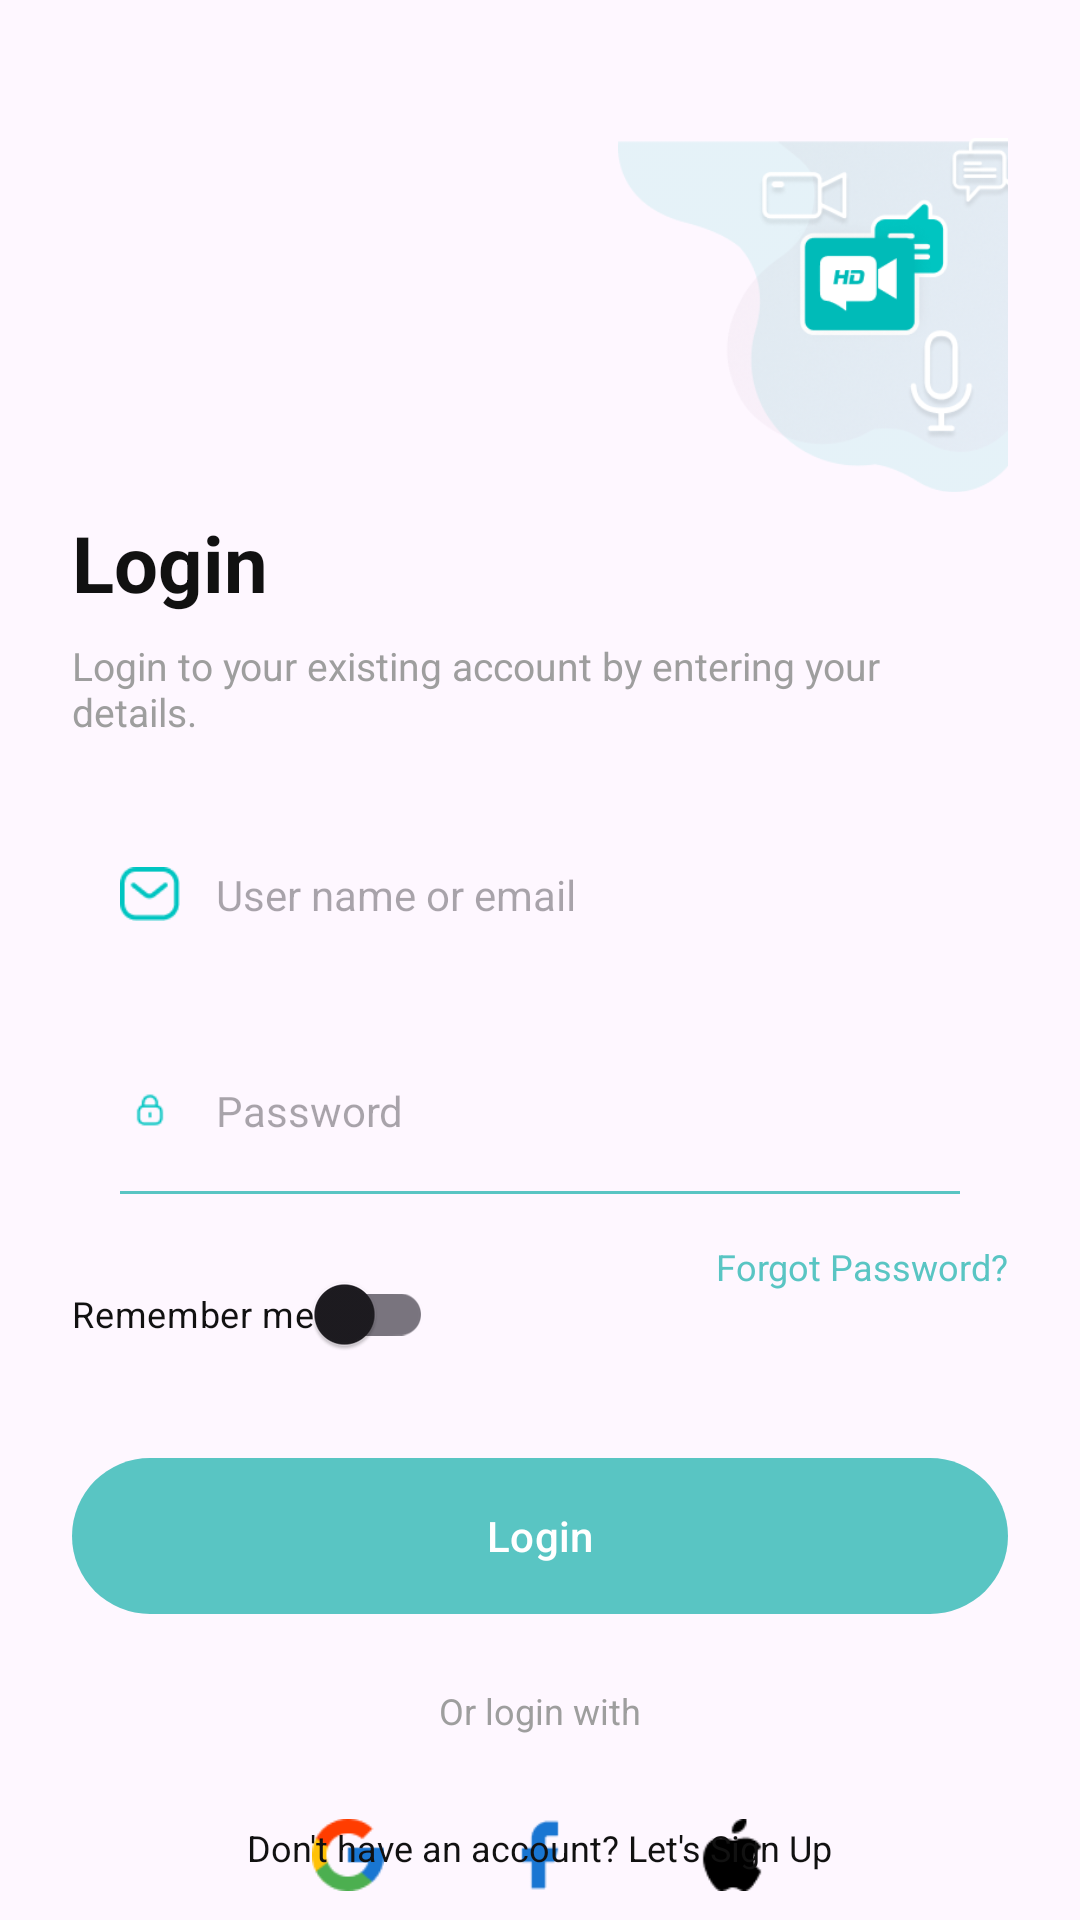

Icons on this 1080px x 1920px Android screen, each with the point to tap as (x,y):
lock: (150,1110)
